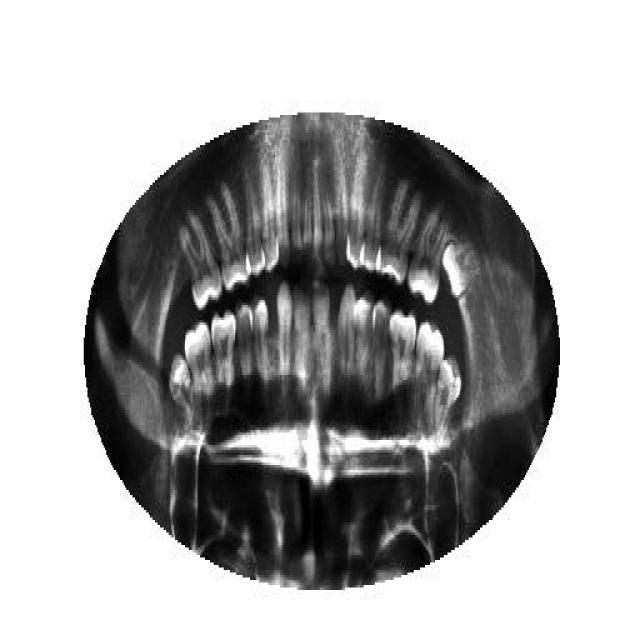Impacted Tooth: (441, 238, 480, 298)
